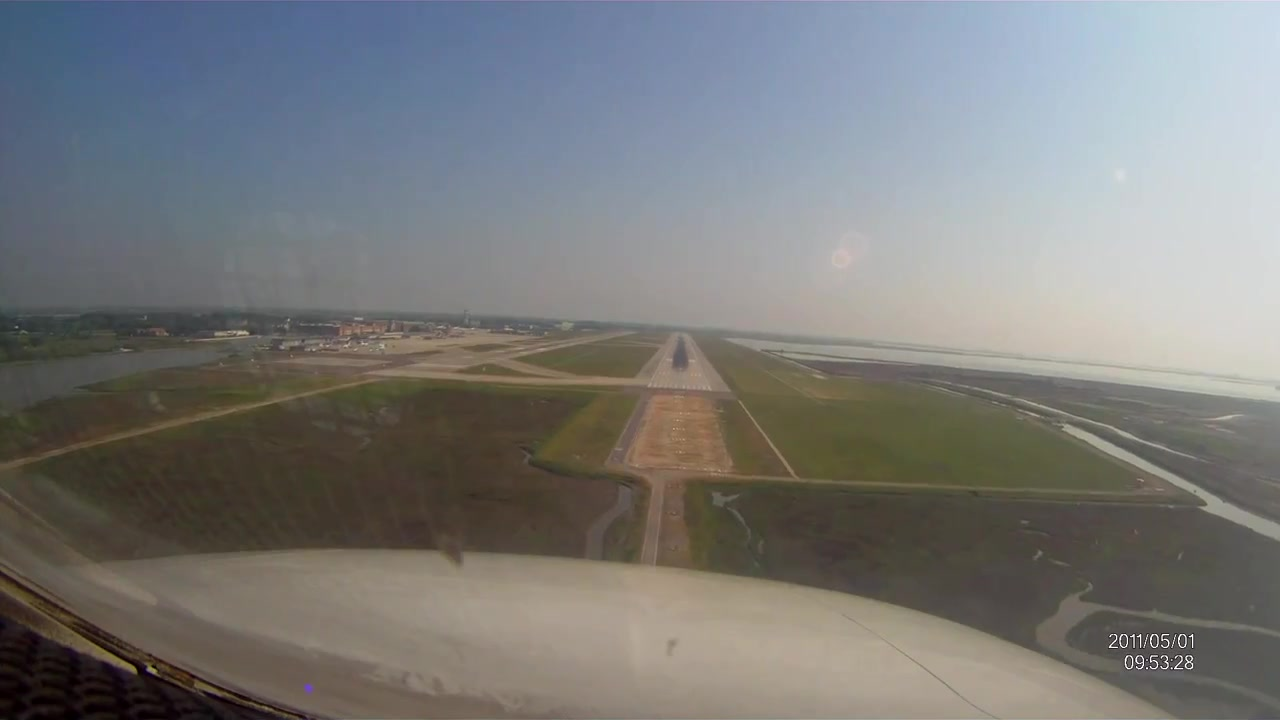entrance: (649, 384, 712, 390)
runway: (648, 334, 716, 393)
